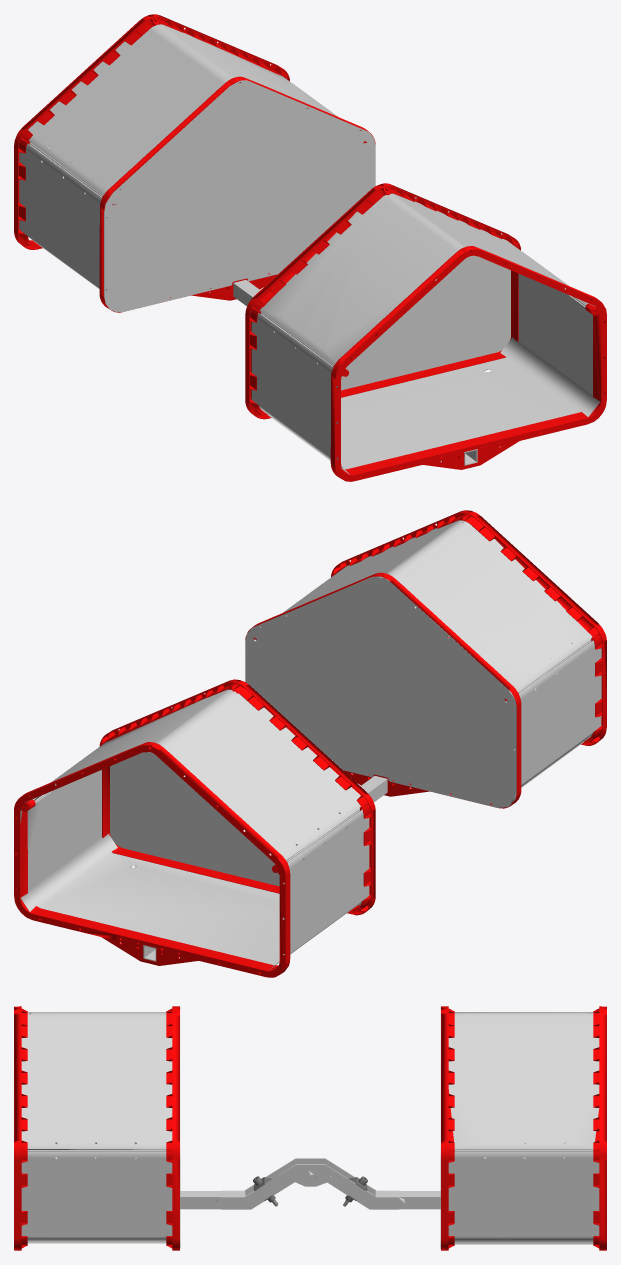
File: red_hive.glb
3 renders of one model, top to bottom at view 1: azimuth 30°, elevation 25°; view 2: azimuth 150°, elevation 25°; view 3: azimuth 270°, elevation 25°, orthographic. The views are drawn at different scales.
Parts seen in each view (by area): view 1: am-5871: Hive Goal Back Skin, am-5866-red: Red Goal Rib; view 2: am-5871: Hive Goal Back Skin, am-5866-red: Red Goal Rib; view 3: am-5871: Hive Goal Back Skin, am-5866-red: Red Goal Rib, am-5864: Pivot Damper Holder.
Part boxes in pixels (x1,y1,x2,y2): am-5871: Hive Goal Back Skin: (19, 24, 599, 474); am-5866-red: Red Goal Rib: (14, 14, 606, 481); am-5871: Hive Goal Back Skin: (20, 520, 601, 970); am-5866-red: Red Goal Rib: (14, 510, 606, 977); am-5871: Hive Goal Back Skin: (21, 1007, 599, 1248); am-5866-red: Red Goal Rib: (14, 1006, 606, 1250); am-5864: Pivot Damper Holder: (253, 1176, 367, 1202).
Size of the model in its own units: 0.5334 by 0.4085 by 1.09.
